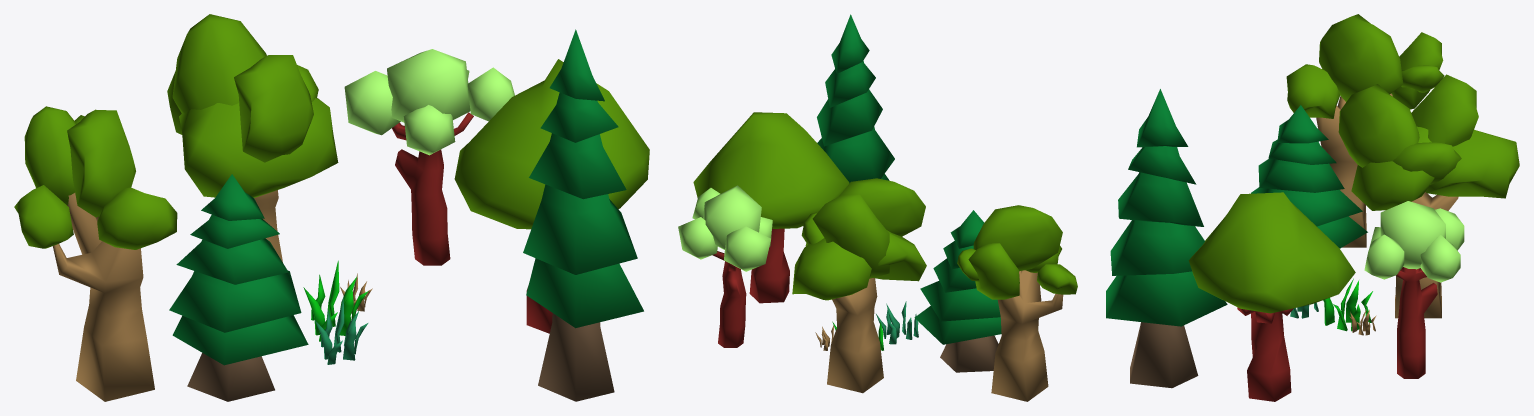
The model's file is trees.fbx.
3 views of the same model, side by side, from view 1: azimuth 30°, elevation 25°; view 2: azimuth 150°, elevation 25°; view 3: azimuth 270°, elevation 25° (orthographic). The views are drawn at different scales.
Parts seen in each view (by area): view 1: Cube, Cylinder.001, Cube.001, Cylinder, Cylinder.003, Cylinder.002, Plane.001, Plane; view 2: Cube.001, Cube, Cylinder.002, Cylinder.003, Cylinder.001, Cylinder, Plane; view 3: Cylinder.001, Cube.001, Cylinder.002, Cube, Cylinder.003, Cylinder, Plane.001.
Part boxes in pixels (x1,y1,x2,y2): Cube: (14,106,177,401); Cylinder.001: (523,29,643,401); Cube.001: (167,14,338,262); Cylinder: (169,174,308,401); Cylinder.003: (344,49,514,265); Cylinder.002: (454,59,649,333); Plane.001: (303,260,368,341); Plane: (314,297,368,364); Cube.001: (792,178,926,393); Cube: (957,205,1077,401); Cylinder.002: (693,112,849,303); Cylinder.003: (678,185,772,347); Cylinder.001: (817,14,894,183); Cylinder: (914,210,1001,372); Plane: (876,301,918,344); Cylinder.001: (1106,89,1227,388); Cube.001: (1338,74,1519,318); Cylinder.002: (1188,192,1355,401); Cube: (1286,14,1444,247); Cylinder.003: (1364,201,1464,378); Cylinder: (1251,105,1367,248); Plane.001: (1323,278,1372,331).
Bounding box in the file's own units: 2269 × 1350 × 1762.
